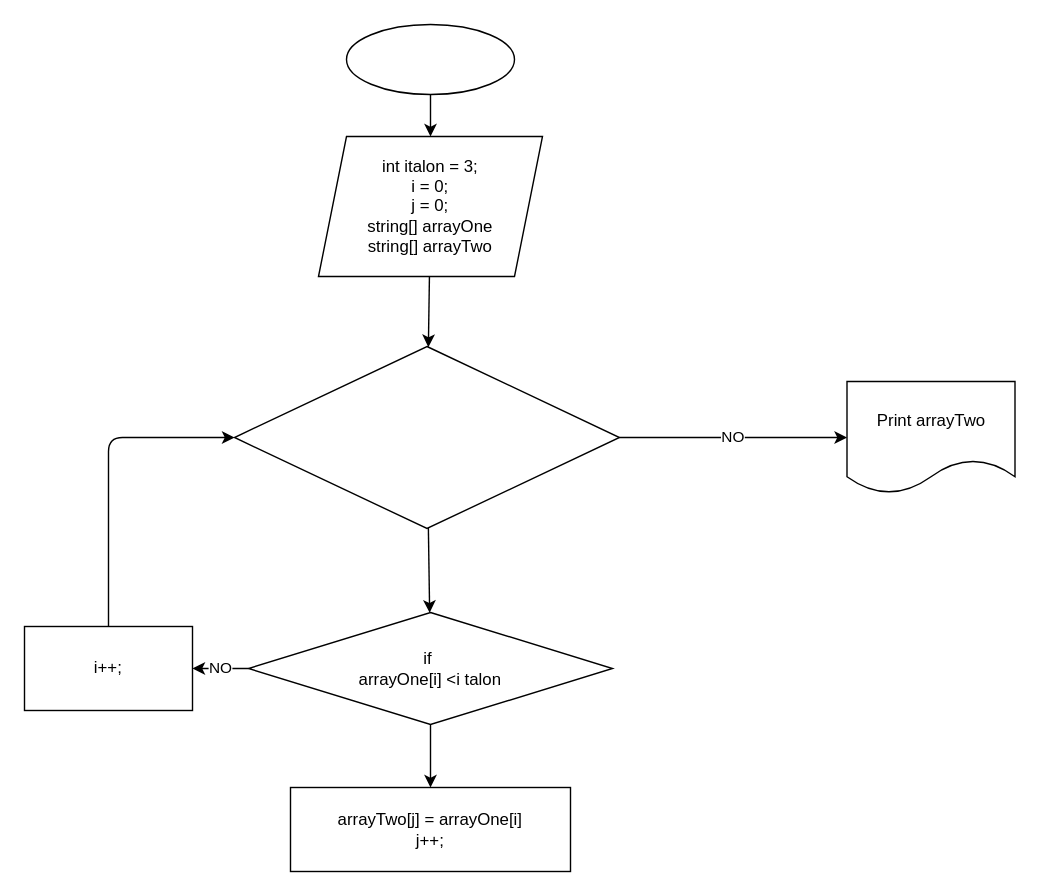
The diagram is 1040 pixels wide and 896 high, and some of its shapes have lost their labels. The centre of each missing label's shape, as x and y in pixels:
if i < arrayOne.Length: pixel 426 436
Start: pixel 429 58
